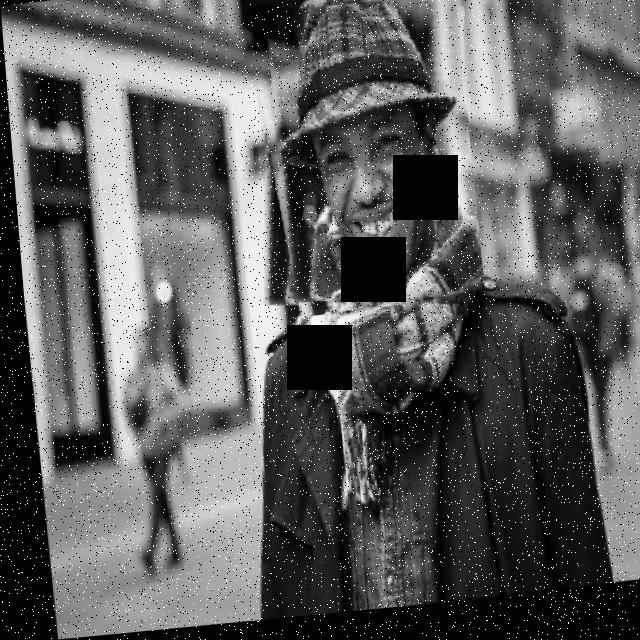happy: (242, 0, 480, 326)
